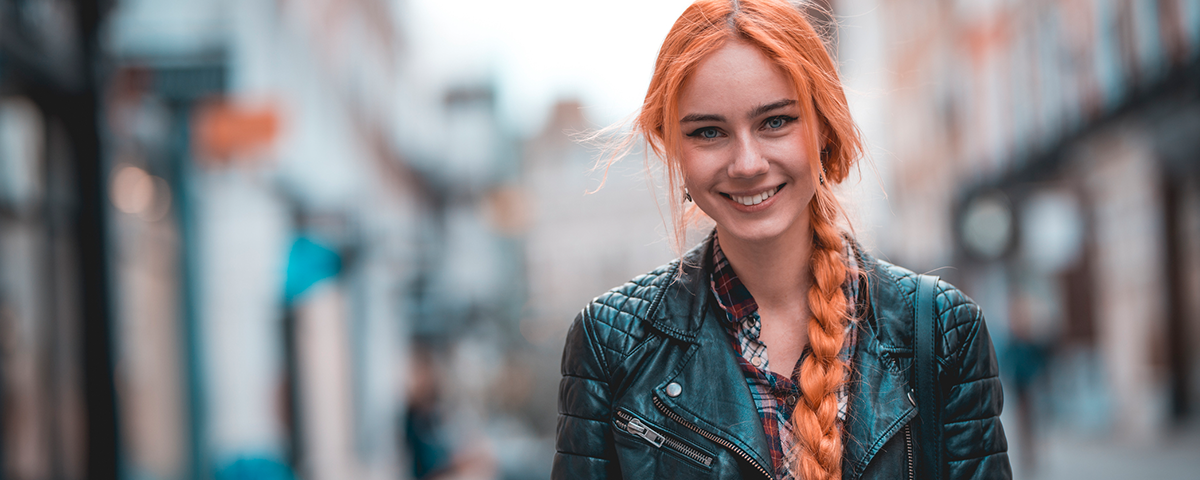person: (572, 5, 1009, 480)
